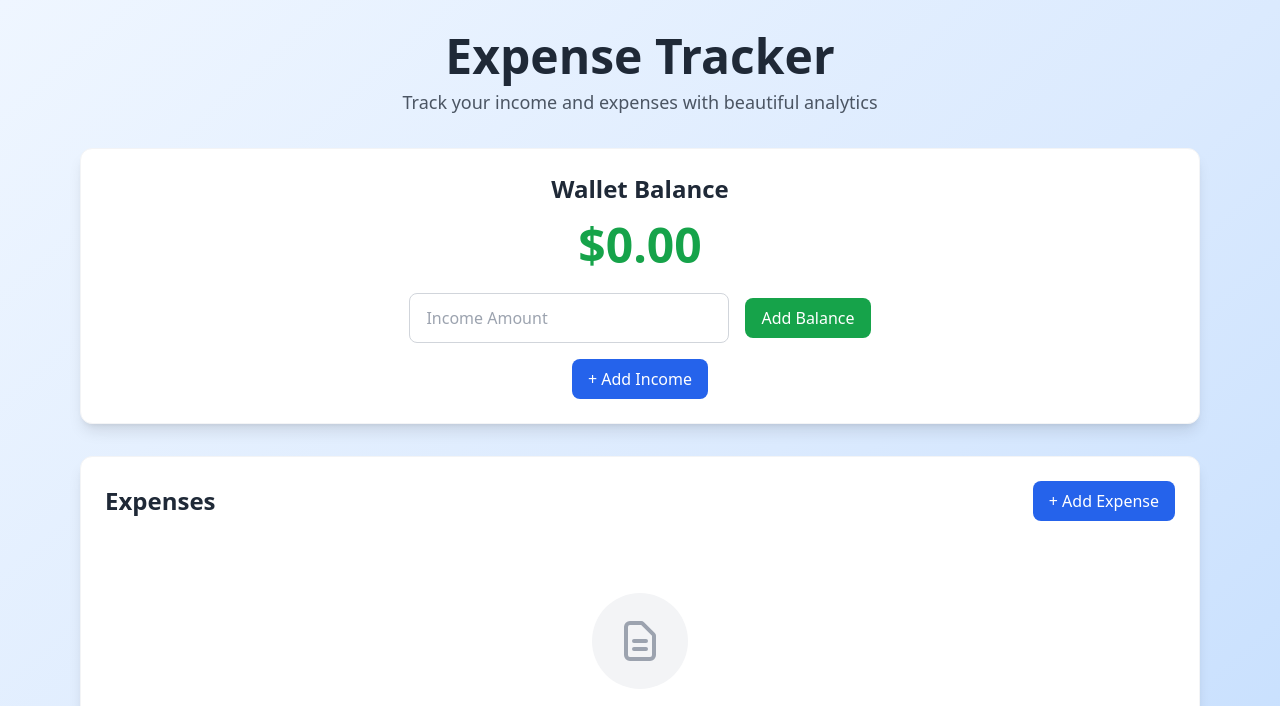
Test case: Modern Expense Tracker App › should add a new expense with modern form
Add income first
Type "1000" into the number field with placeholder "Income Amount".
click(569, 318); type("1000")  # box 409,293 -> 729,343
Click the button "Add Balance".
click(808, 318)  # box 745,298 -> 870,338
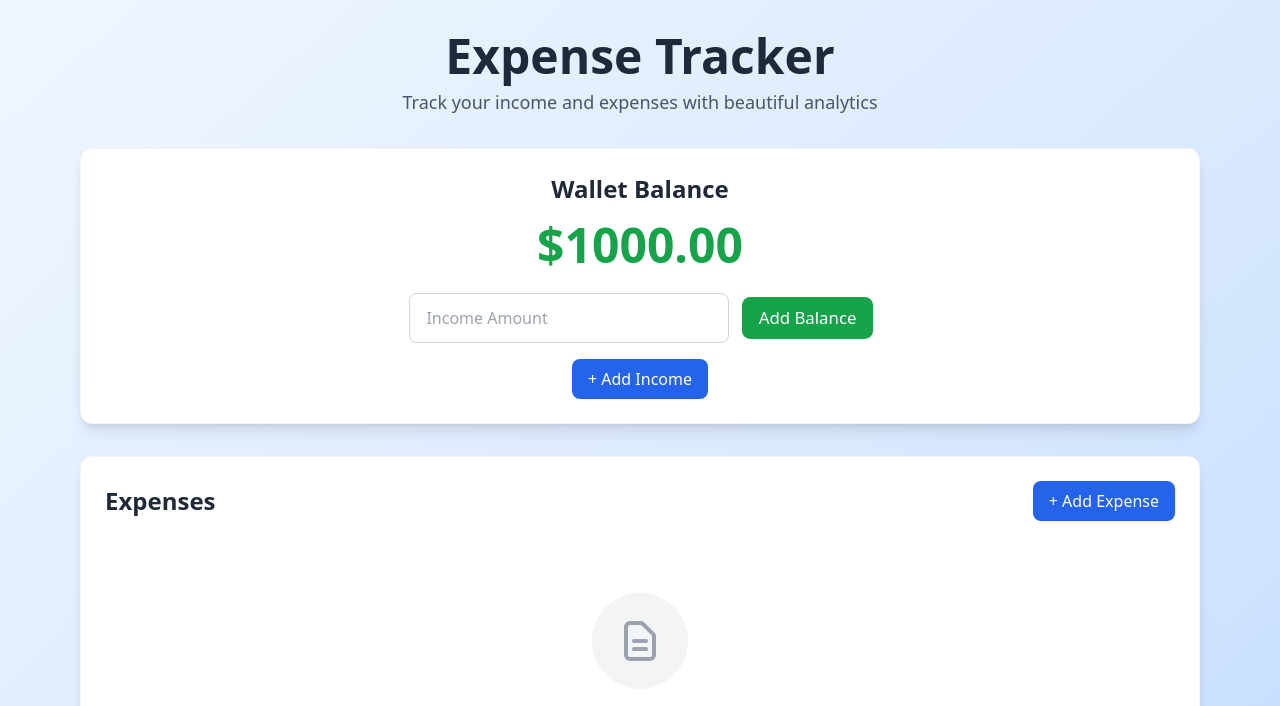
Add expense
Click the button "+ Add Expense".
click(1104, 501)  # box 1033,481 -> 1175,521
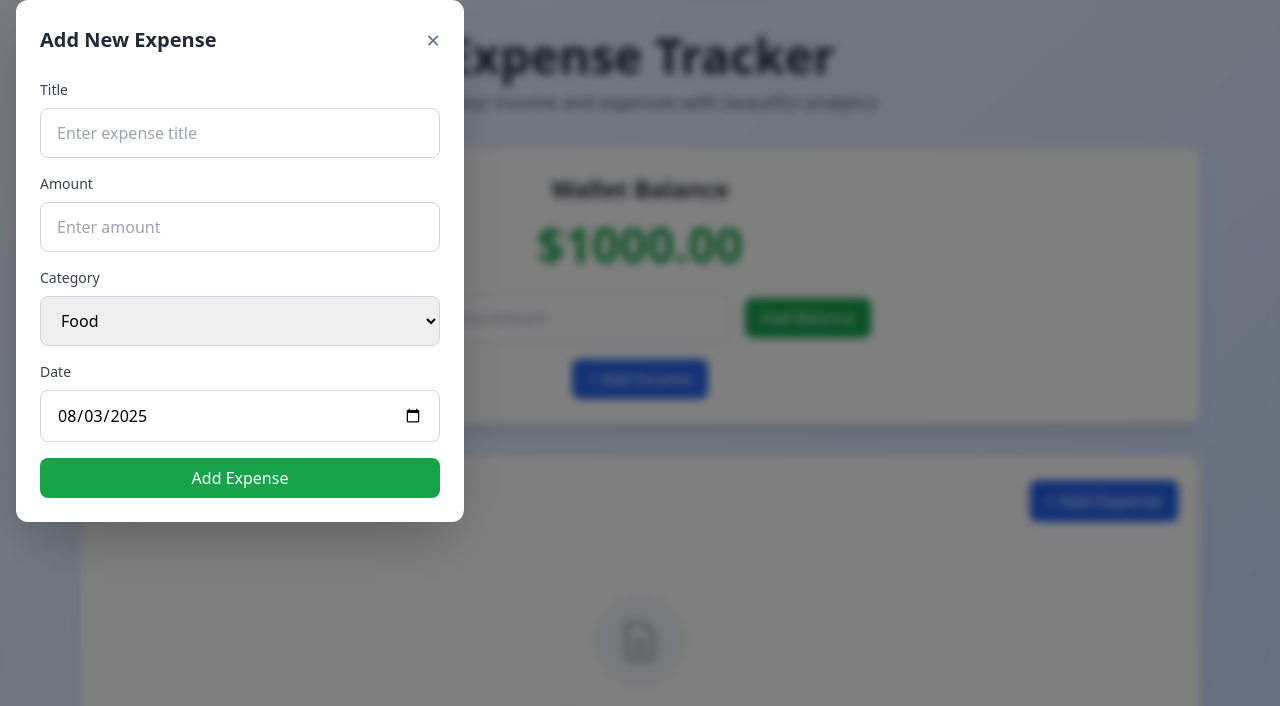
Type "Groceries" into the field named "title".
click(240, 133); type("Groceries")  # box 40,108 -> 440,158
Type "50.00" into the number field named "price".
click(240, 227); type("50.00")  # box 40,202 -> 440,252
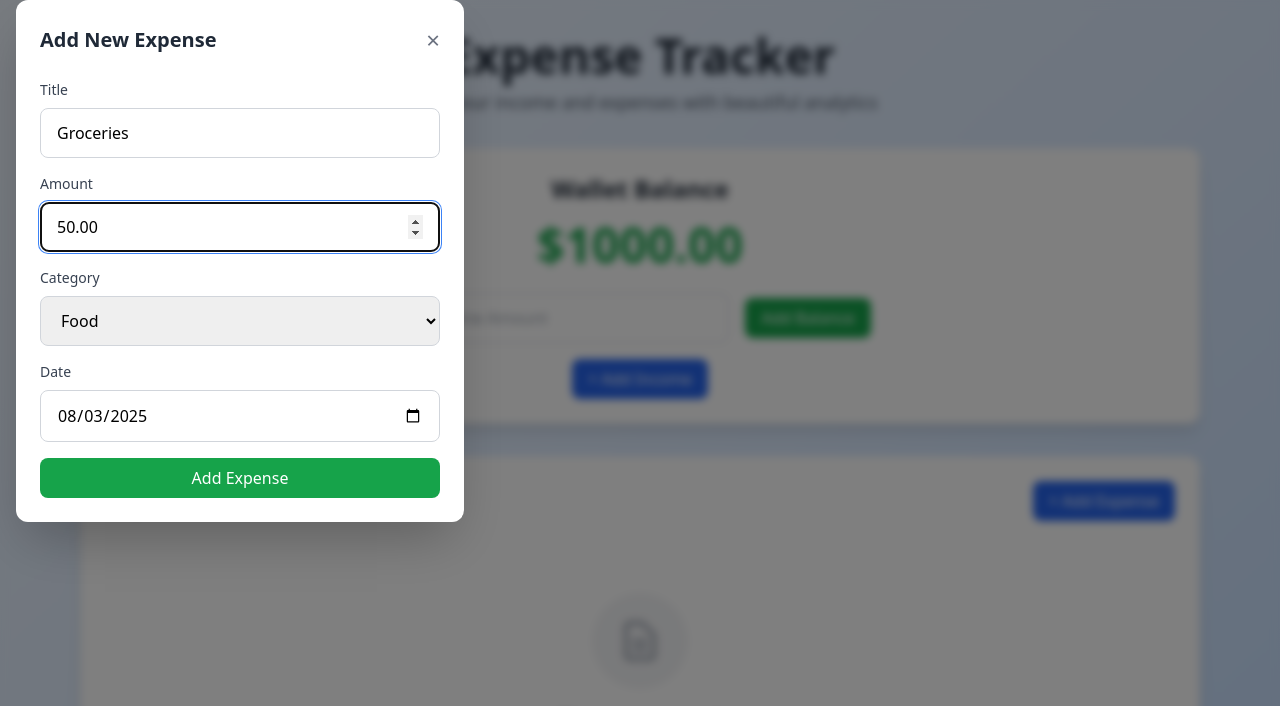
Select "Food" in the dropdown named "category" at [240, 321], box 40,296 -> 440,346
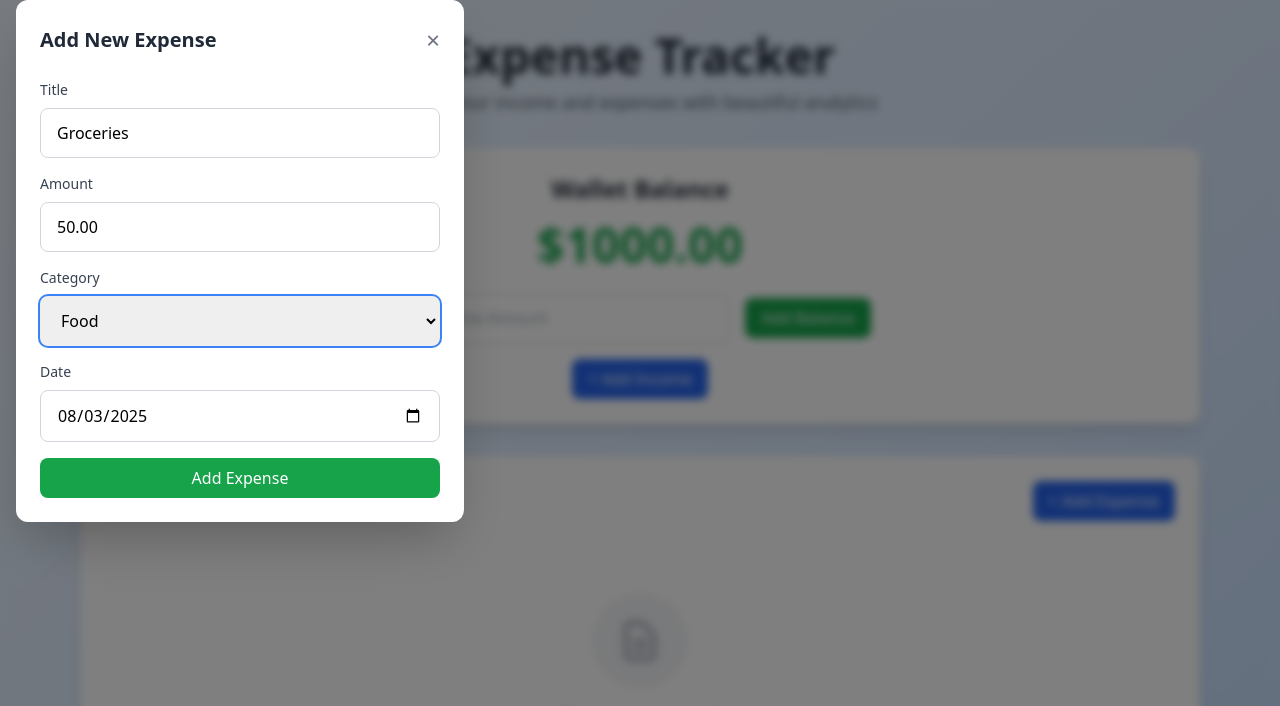
Type "2024-01-15" into the date field named "date".
click(240, 416); type("2024-01-15")  # box 40,390 -> 440,442
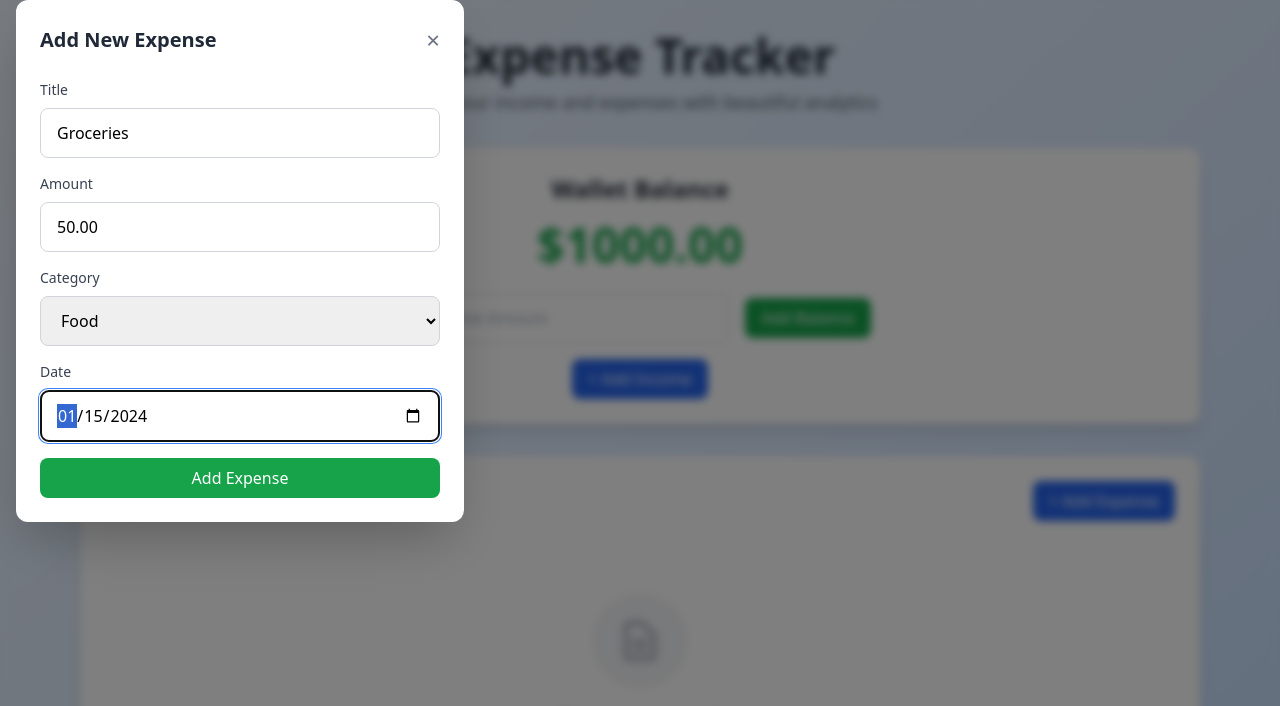
Click the button "Add Expense".
click(240, 478)  # box 40,458 -> 440,498
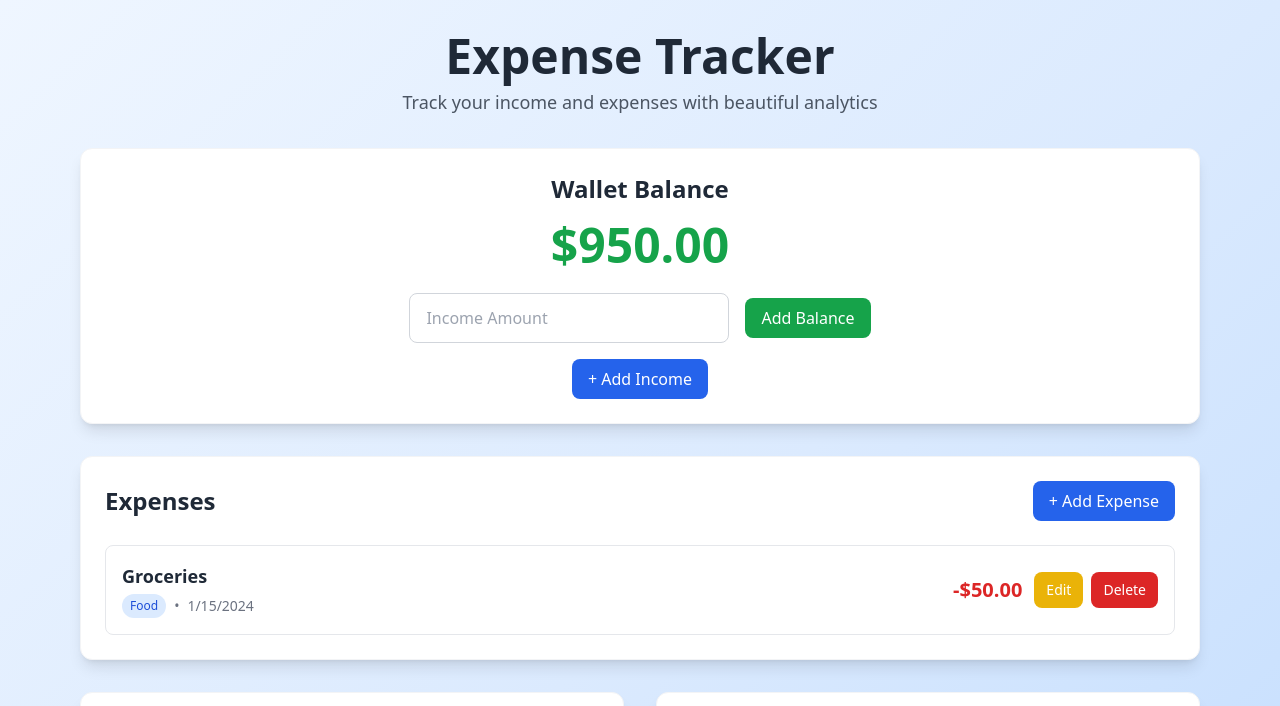
Now the heading "Groceries" is shown, box 122,564 -> 207,588
Now the text "-$50.00" is shown, box 953,576 -> 1022,604
Now the text "Food" is shown, box 122,594 -> 166,618
